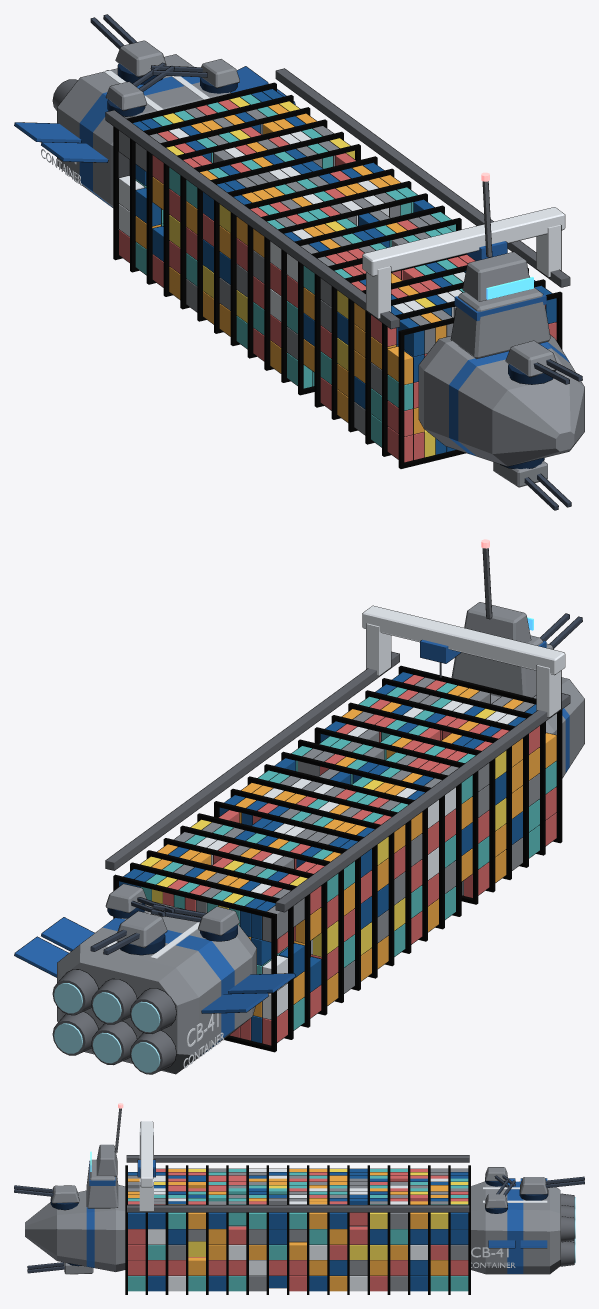
File: Cargo_Capital_Container.fbx
3 views of the same model, one above another, from view 1: azimuth 30°, elevation 25°; view 2: azimuth 150°, elevation 25°; view 3: azimuth 270°, elevation 25° (orthographic). The views are drawn at different scales.
Visible parts, largest first — view 1: Containers, Racks, Bow, Engine, Gantry_Beam, Bridge_A, Bridge_B, TurretAft_House, TurretBow_House, Gantry_Leg-38.559322033898304, Gantry_Leg38.559322033898304, Radiator-10 (+5 smaller); view 2: Containers, Racks, Engine, Gantry_Beam, Bridge_A, Bow, Bridge_B, Radiator11, TurretAft_House, Gantry_Leg-38.559322033898304, Gantry_Leg38.559322033898304, Radiator10 (+16 smaller); view 3: Containers, Racks, Engine, Bow, Bridge_A, Gantry_Beam, Bridge_B, TurretBow_House, TurretAft_House, Gantry_Leg38.559322033898304, Eng_N21, Eng_N20 (+3 smaller).
Boxes of the visible parts, left/top/right/bottom form: Containers: left=118, top=88, right=556, bottom=462; Racks: left=105, top=68, right=570, bottom=468; Bow: left=418, top=334, right=584, bottom=466; Engine: left=57, top=54, right=230, bottom=207; Gantry_Beam: left=362, top=207, right=565, bottom=276; Bridge_A: left=450, top=287, right=550, bottom=358; Bridge_B: left=462, top=251, right=529, bottom=301; TurretAft_House: left=115, top=40, right=166, bottom=77; TurretBow_House: left=505, top=340, right=556, bottom=377; Gantry_Leg-38.559322033898304: left=366, top=266, right=391, bottom=319; Gantry_Leg38.559322033898304: left=536, top=225, right=561, bottom=277; Radiator-10: left=41, top=142, right=108, bottom=162; Containers: left=118, top=672, right=556, bottom=1045; Racks: left=105, top=651, right=570, bottom=1052; Engine: left=57, top=902, right=256, bottom=1074; Gantry_Beam: left=362, top=605, right=565, bottom=675; Bridge_A: left=451, top=635, right=543, bottom=697; Bow: left=491, top=677, right=584, bottom=778; Bridge_B: left=464, top=602, right=531, bottom=642; Radiator11: left=14, top=936, right=68, bottom=977; TurretAft_House: left=116, top=911, right=167, bottom=947; Gantry_Leg-38.559322033898304: left=536, top=665, right=561, bottom=717; Gantry_Leg38.559322033898304: left=366, top=623, right=391, bottom=676; Radiator10: left=41, top=917, right=94, bottom=951; Containers: left=128, top=1168, right=468, bottom=1291; Racks: left=125, top=1155, right=470, bottom=1294; Engine: left=471, top=1181, right=560, bottom=1274; Bow: left=25, top=1185, right=125, bottom=1271; Bridge_A: left=86, top=1159, right=118, bottom=1208; Gantry_Beam: left=140, top=1121, right=153, bottom=1187; Bridge_B: left=96, top=1144, right=117, bottom=1176; TurretBow_House: left=51, top=1185, right=79, bottom=1203; TurretAft_House: left=520, top=1177, right=547, bottom=1194; Gantry_Leg38.559322033898304: left=139, top=1178, right=153, bottom=1211; Eng_N21: left=560, top=1216, right=574, bottom=1242; Eng_N20: left=560, top=1241, right=574, bottom=1266.
Size of the model in its own units: 105 by 120 by 373.
